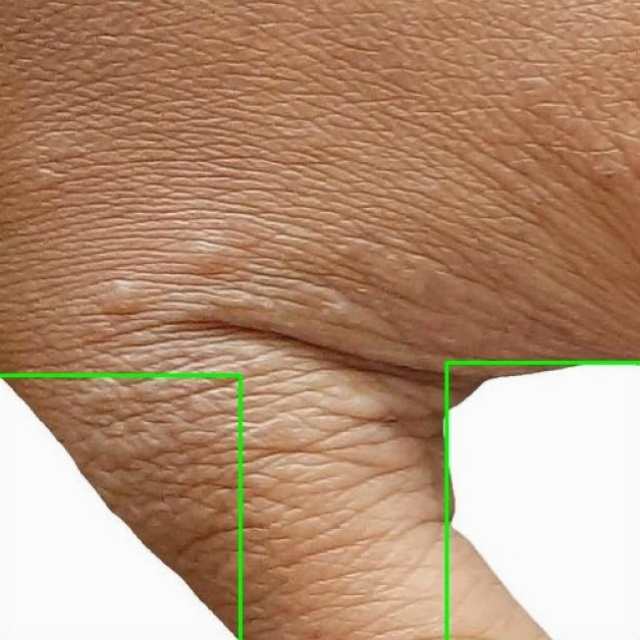Scabies: (0, 375, 240, 639), (445, 363, 639, 639)
